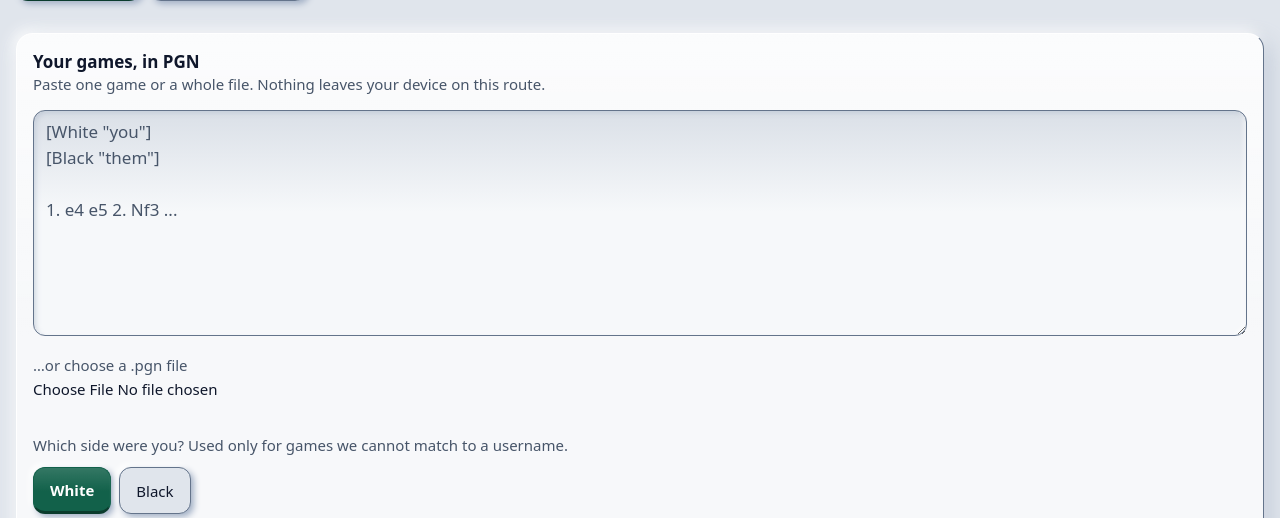
Test: ImportScreen, the PGN paste path › unreadable text is refused in plain words and no game is stored
The image size is (1280, 518).
Click the text box labelled "Your games, in PGN" at (640, 223), box [33,110,1247,336]
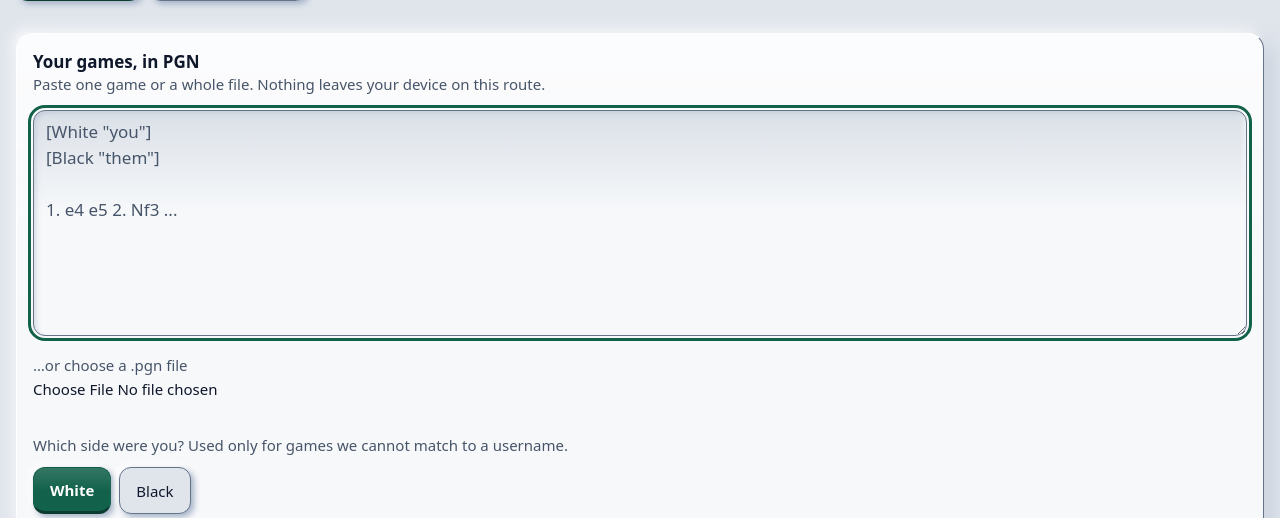
Type keys "my shopping list: eggs, milk"
(page scrolled)
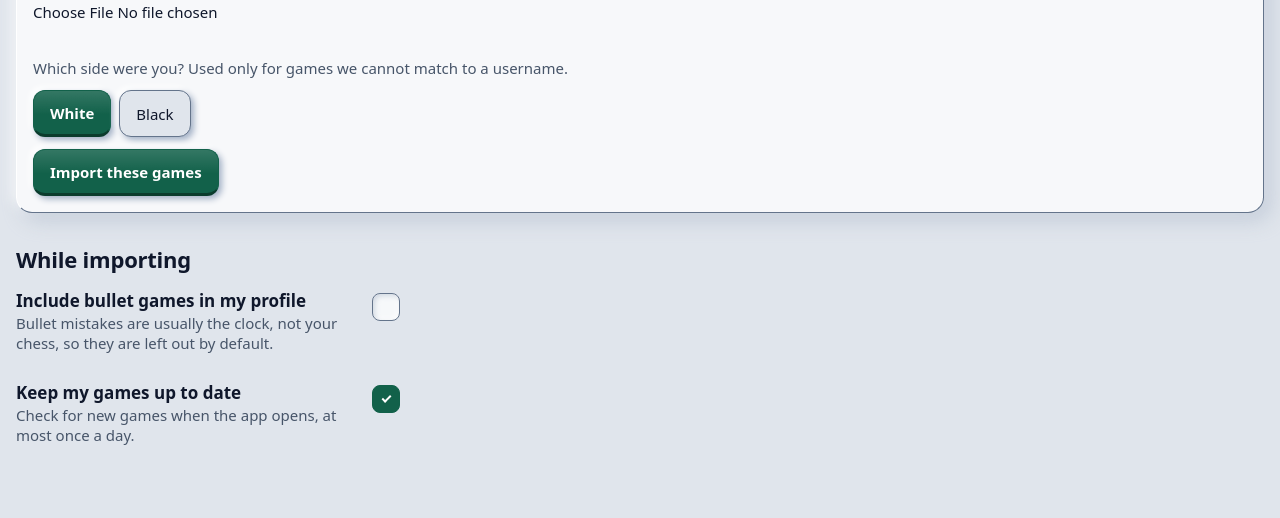
Click the button "Import these games" at (126, 172), box [33,149,219,196]
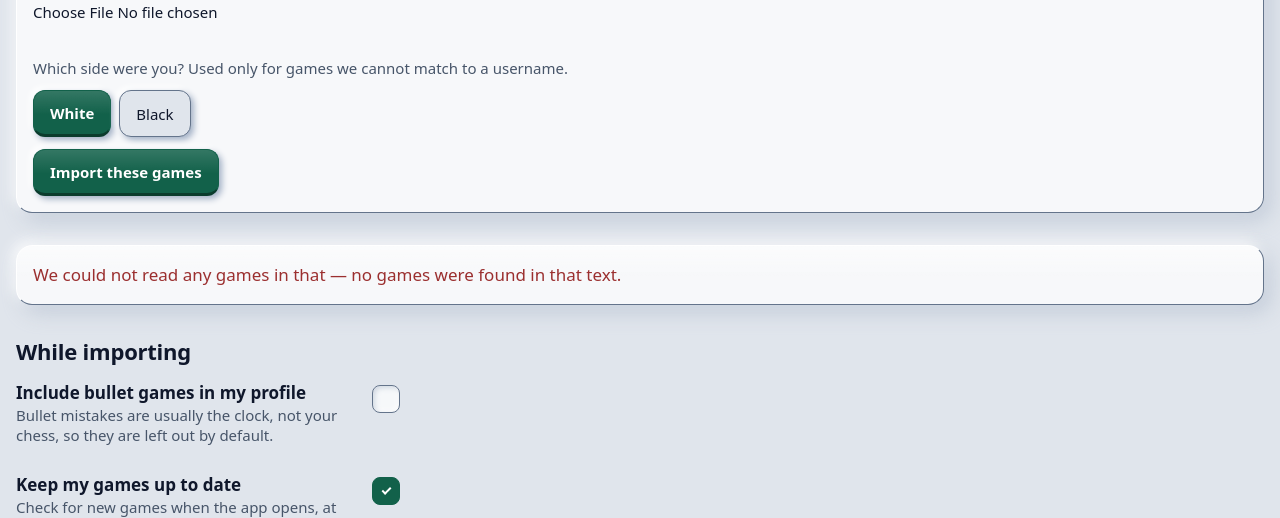
Expected: the message shows "could not read any games", [33,263,621,286]
